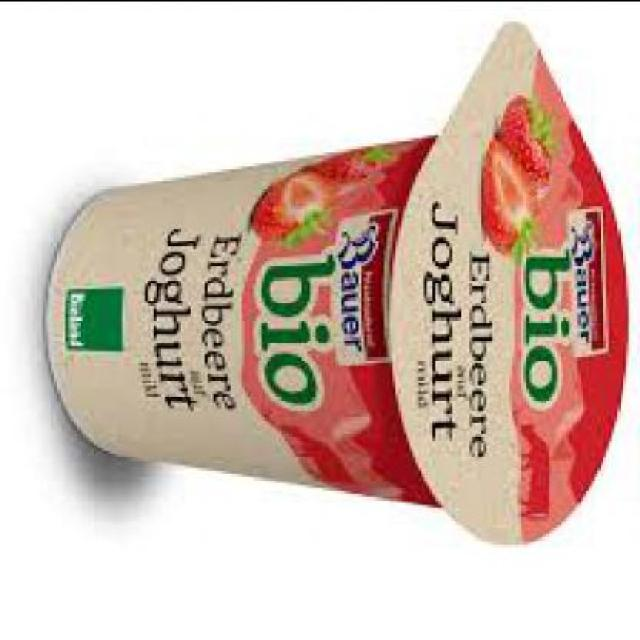PLASTIC: (46, 17, 634, 540)
